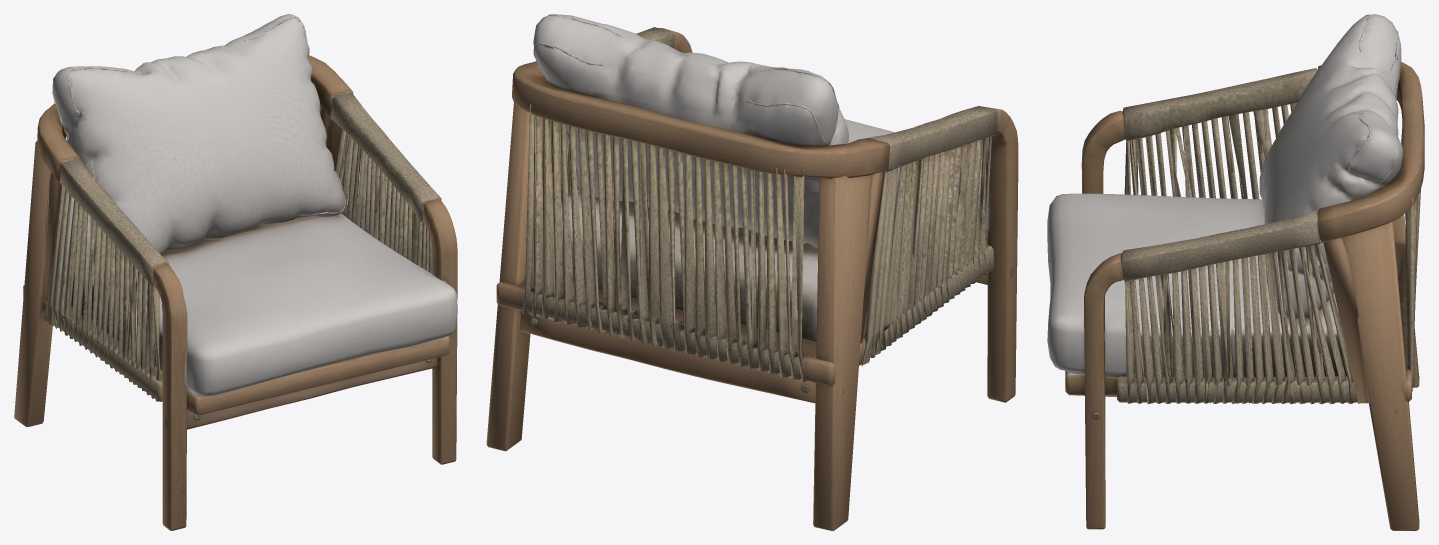
Rendered from 10 kreslo_derevyannoe_s_podushkami_tagliamento_ravona_kd.glb.
3 views of the same model, side by side, from view 1: azimuth 30°, elevation 25°; view 2: azimuth 150°, elevation 25°; view 3: azimuth 270°, elevation 25° (orthographic). The views are drawn at different scales.
Visible parts, largest first — view 1: tripo_node_f605030f-d247-45e0-bfc5-53649984df6a; view 2: tripo_node_f605030f-d247-45e0-bfc5-53649984df6a; view 3: tripo_node_f605030f-d247-45e0-bfc5-53649984df6a.
Part boxes in pixels (x1=…): tripo_node_f605030f-d247-45e0-bfc5-53649984df6a: x1=14, y1=14, x2=457, y2=530; tripo_node_f605030f-d247-45e0-bfc5-53649984df6a: x1=486, y1=14, x2=1018, y2=530; tripo_node_f605030f-d247-45e0-bfc5-53649984df6a: x1=1047, y1=14, x2=1424, y2=530.
Bounding box in the file's own units: 0.7373 × 0.8543 × 0.7639.
1 material, 1 textured.
